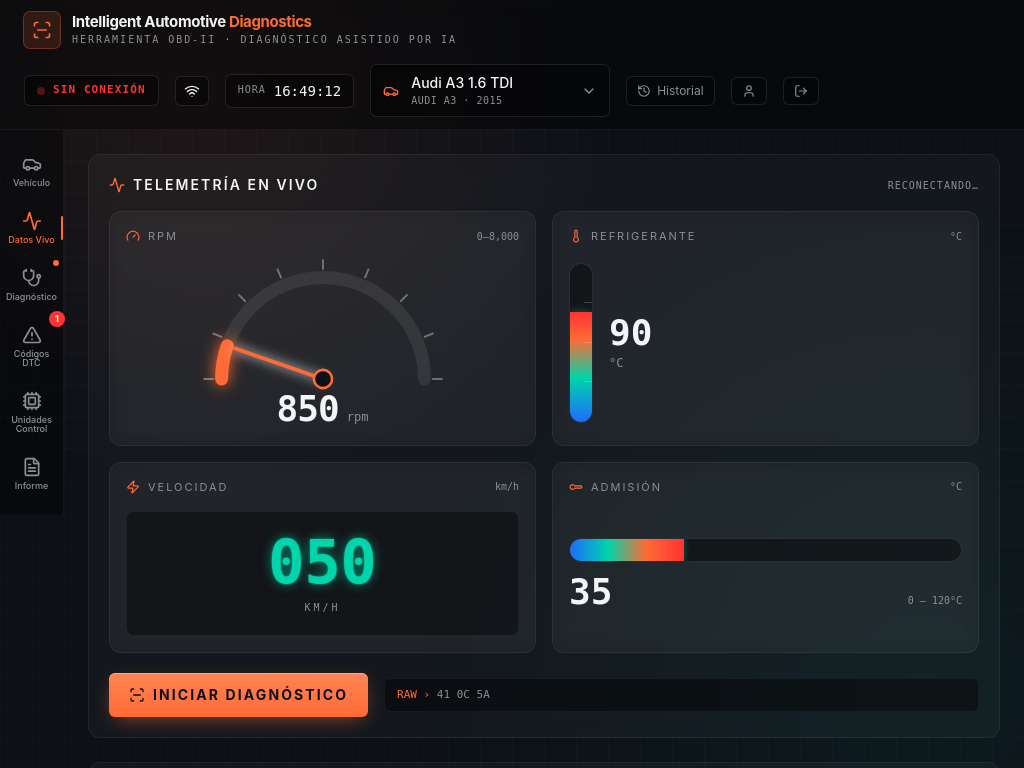
Scenario: DashboardPage › should show the freeze frame for the selected DTC in the same DTC section
The image size is (1024, 768).
Click the button titled "Códigos DTC" at (32, 346), box [0, 313, 63, 379]
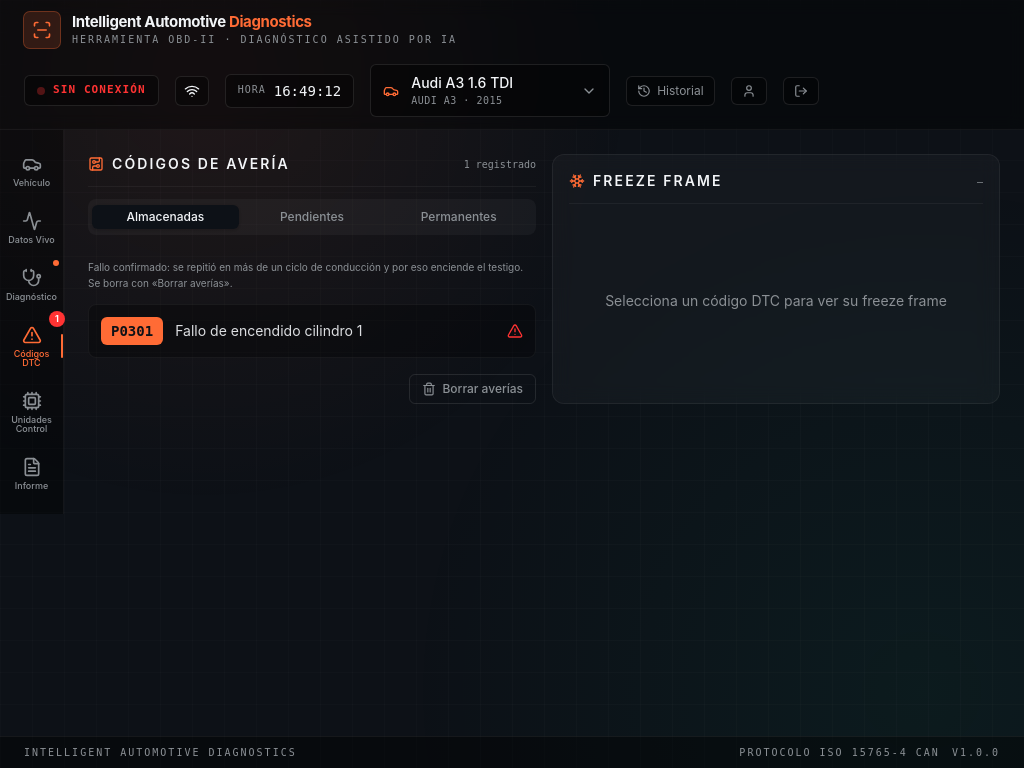
Click the text "P0301" at (132, 330), box [101, 316, 163, 344]
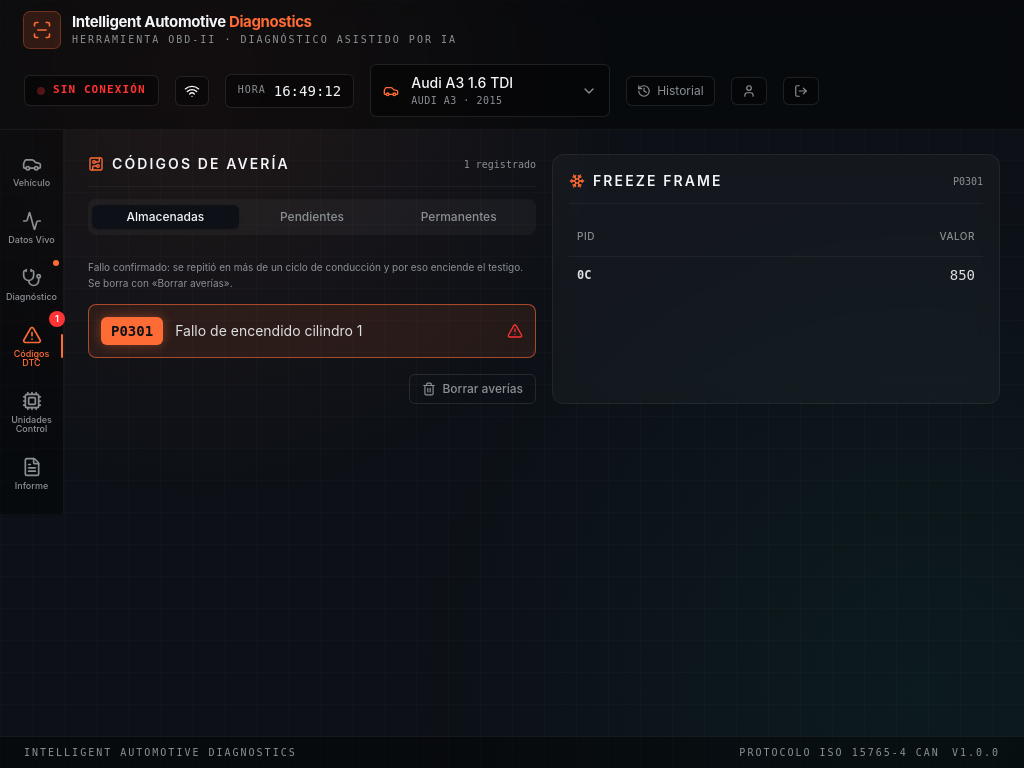
Expected: the text "0C" is shown, [569, 256, 733, 292]
